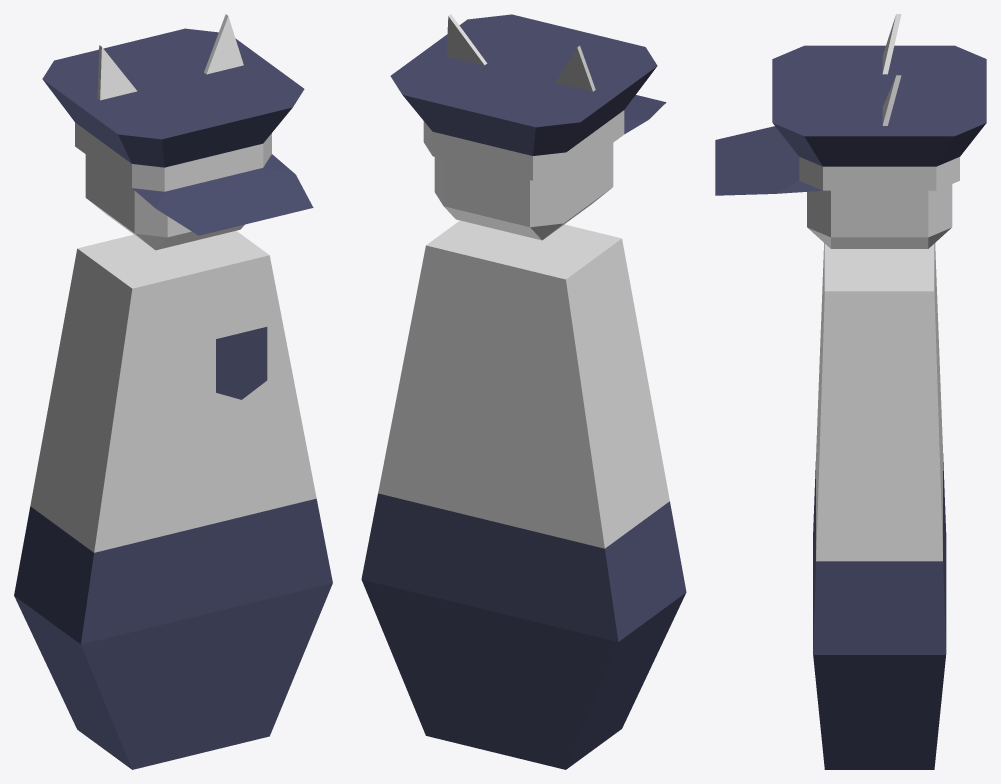
File: policeman.fbx
The picture shows the model from 3 angles, left to right: view 1: azimuth 30°, elevation 25°; view 2: azimuth 150°, elevation 25°; view 3: azimuth 270°, elevation 25°; orthographic projection. The views are drawn at different scales.
Visible parts, largest first — view 1: Cube.006, Cube.007; view 2: Cube.006, Cube.007; view 3: Cube.006, Cube.007.
Part boxes in pixels (x1,y1,x2,y2): Cube.006: (14, 231, 332, 769); Cube.007: (42, 14, 313, 250); Cube.006: (361, 220, 686, 769); Cube.007: (390, 14, 666, 240); Cube.006: (813, 243, 946, 769); Cube.007: (715, 14, 986, 248).
Size of the model in its own units: 72.22 by 190 by 67.74.
